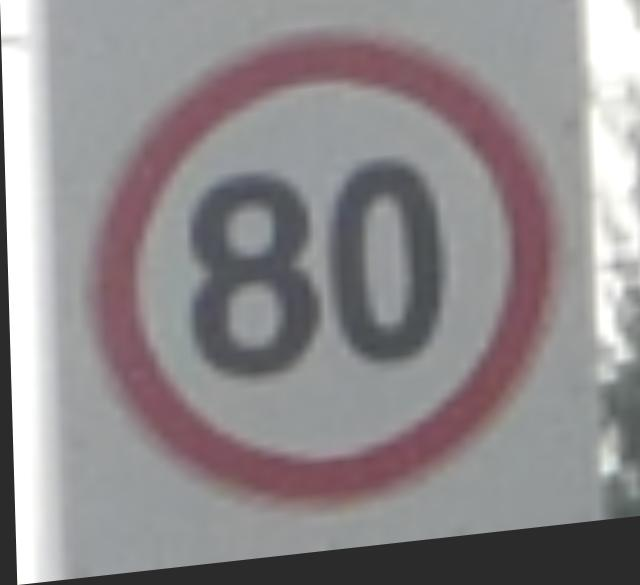limit80: (71, 2, 573, 549)
